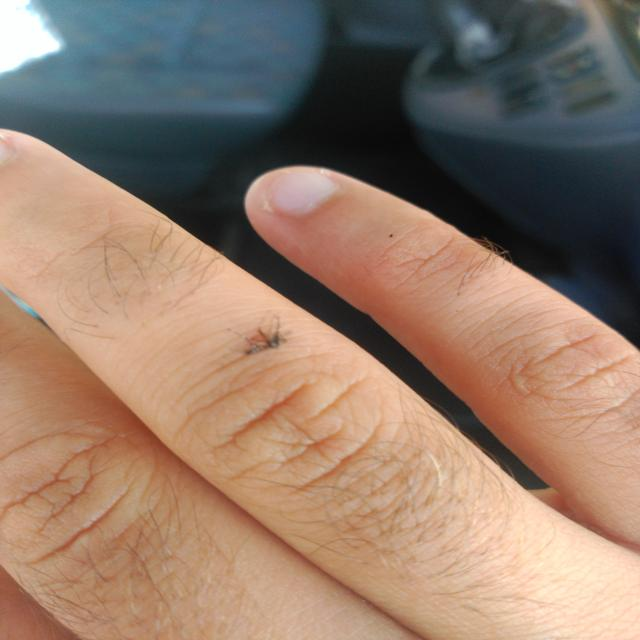albopictus: (223, 314, 294, 361)
